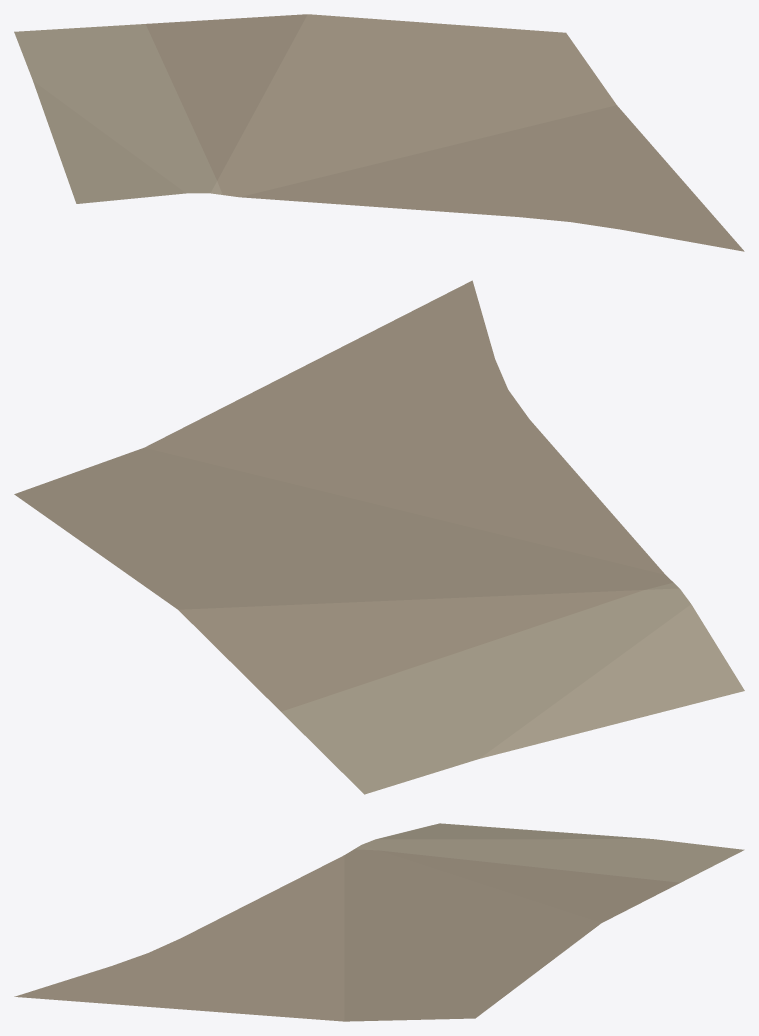
File: farm_0_20_soil.glb
3 views of the same model, one above another, from view 1: azimuth 30°, elevation 25°; view 2: azimuth 150°, elevation 25°; view 3: azimuth 270°, elevation 25° (orthographic). The views are drawn at different scales.
Visible parts, largest first — view 1: geometry_0; view 2: geometry_0; view 3: geometry_0.
Boxes of the visible parts, x1,y1,x2,y2 form: geometry_0: (14, 14, 744, 251); geometry_0: (14, 280, 744, 794); geometry_0: (14, 823, 744, 1021).
Size of the model in its own units: 92 by 7.94 by 127.
